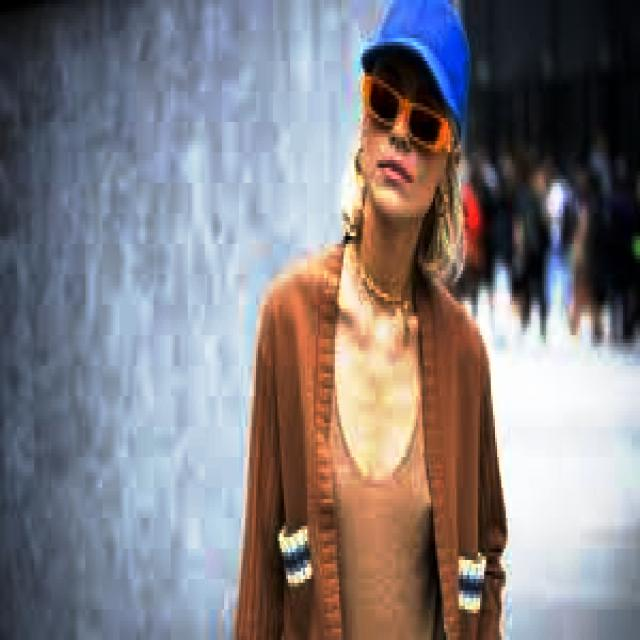TOPI: (356, 0, 469, 141)
